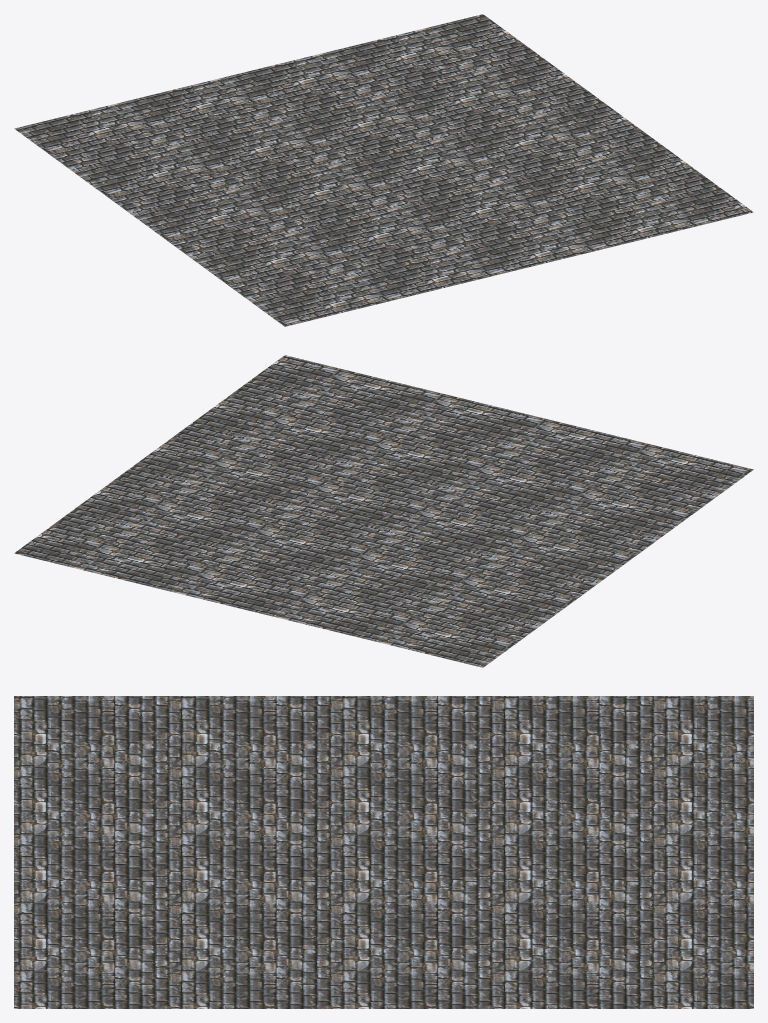
The model's file is cobblestone-plane.obj.
The picture shows the model from 3 angles, top to bottom: view 1: azimuth 30°, elevation 25°; view 2: azimuth 150°, elevation 25°; view 3: azimuth 270°, elevation 25°; orthographic projection. The views are drawn at different scales.
Visible parts, largest first — view 1: Grid; view 2: Grid; view 3: Grid.
Part boxes in pixels (x1,y1,x2,y2): Grid: [14, 14, 753, 326]; Grid: [14, 355, 753, 667]; Grid: [14, 696, 753, 1008].
Size of the model in its own units: 128 by 0 by 128.
